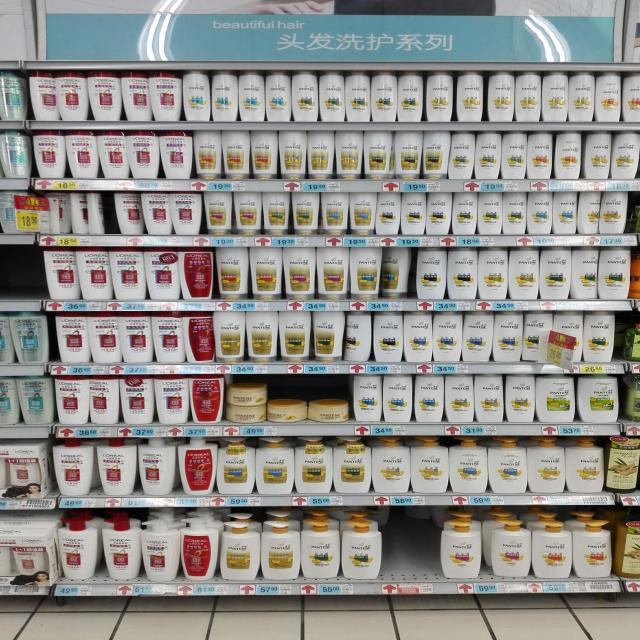unorganised: (437, 519, 485, 580), (49, 191, 109, 238), (380, 248, 417, 299), (310, 311, 344, 364), (182, 314, 216, 365), (87, 373, 120, 424), (343, 311, 374, 364), (29, 69, 57, 124), (113, 189, 143, 236)
